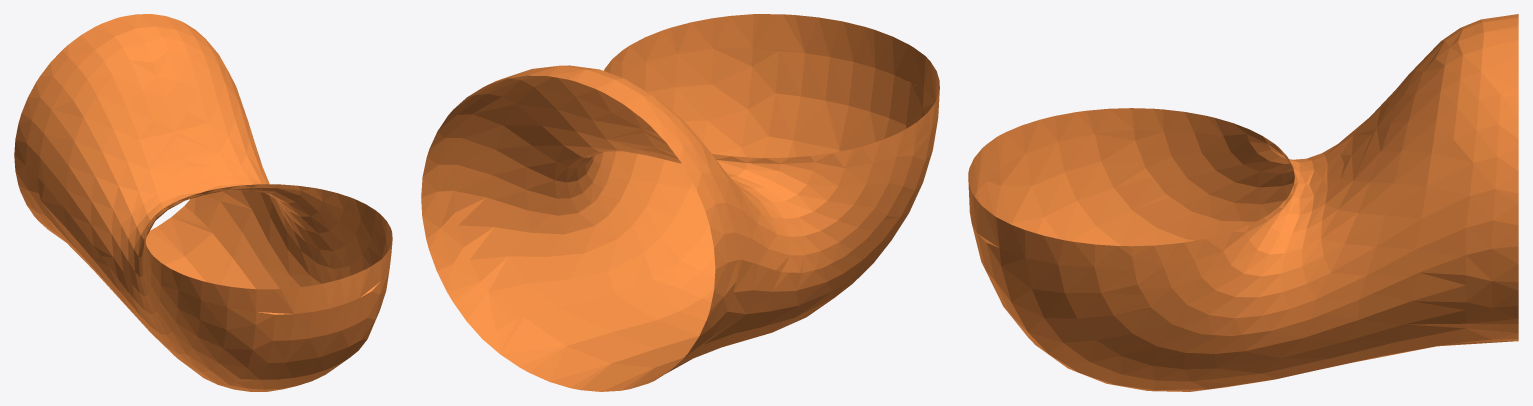
The model's file is iiwa_link_2_vis_1.obj.
3 views of the same model, side by side, from view 1: azimuth 30°, elevation 25°; view 2: azimuth 150°, elevation 25°; view 3: azimuth 270°, elevation 25° (orthographic). The views are drawn at different scales.
Visible parts, largest first — view 1: node; view 2: node; view 3: node.
Part boxes in pixels (x1,y1,x2,y2): node: (14,14,392,391); node: (421,14,939,391); node: (968,14,1518,391).
Size of the model in its own units: 0.171 by 0.2012 by 0.2878.
